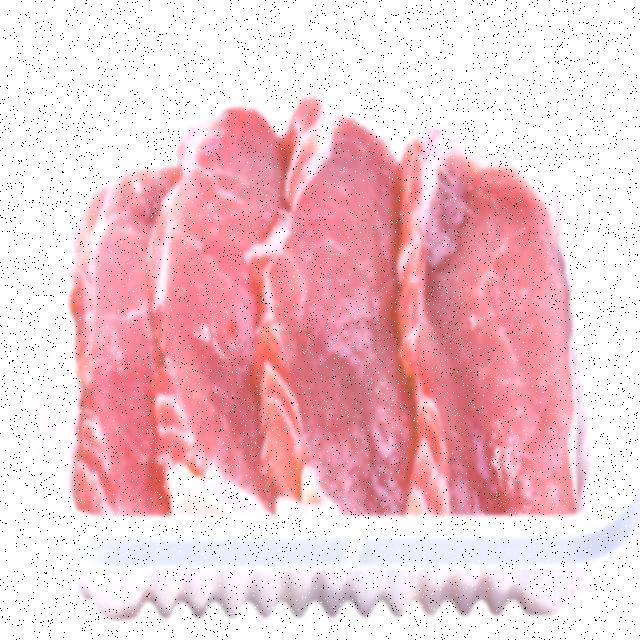pork: (405, 117, 573, 550), (264, 102, 397, 555), (158, 93, 272, 541), (74, 113, 175, 544)
